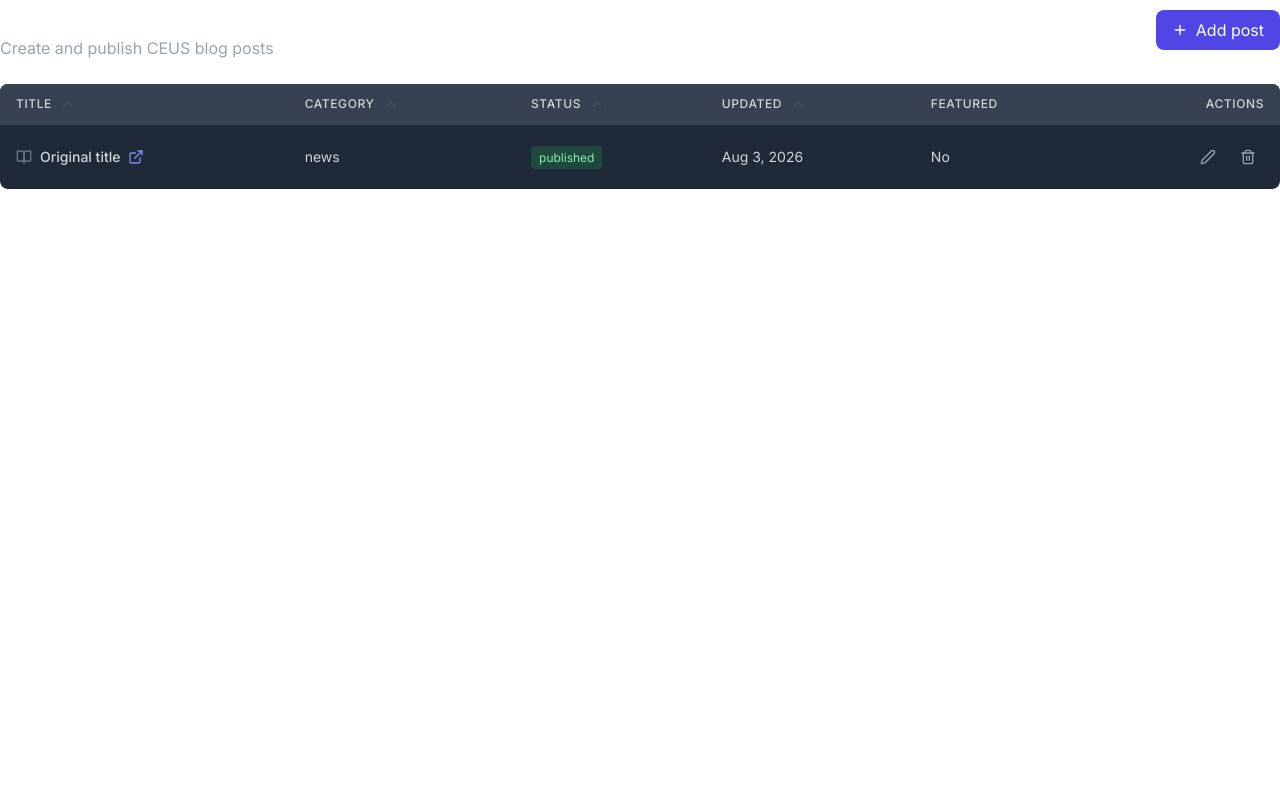
Test case: AdminBlogPage › updates an auto-derived slug while editing a post
Expected: the text "Original title" is shown, 40,147 -> 120,167
Click the button titled "Edit" at (1208, 157), box 1192,141 -> 1224,173
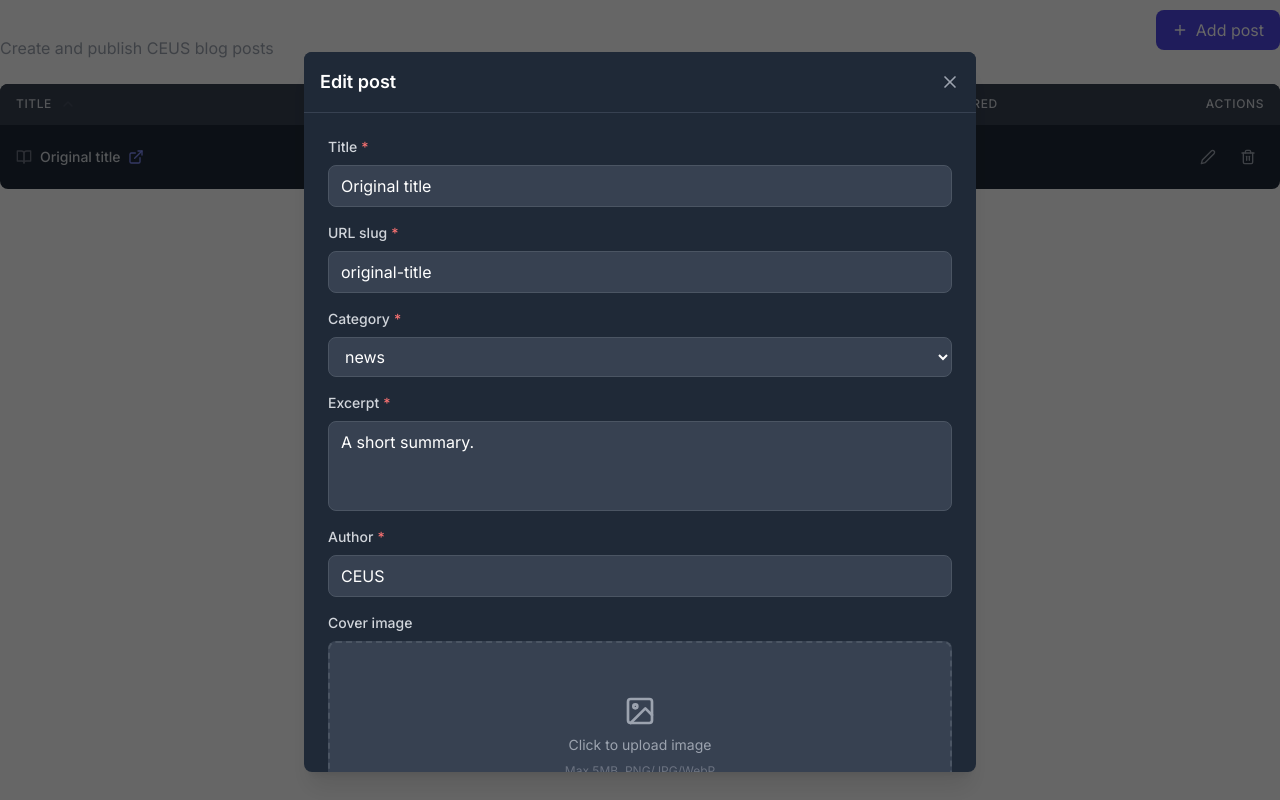
Replace the text in the field labelled "Title*" with "Updated title" at (640, 186), box 328,165 -> 952,207
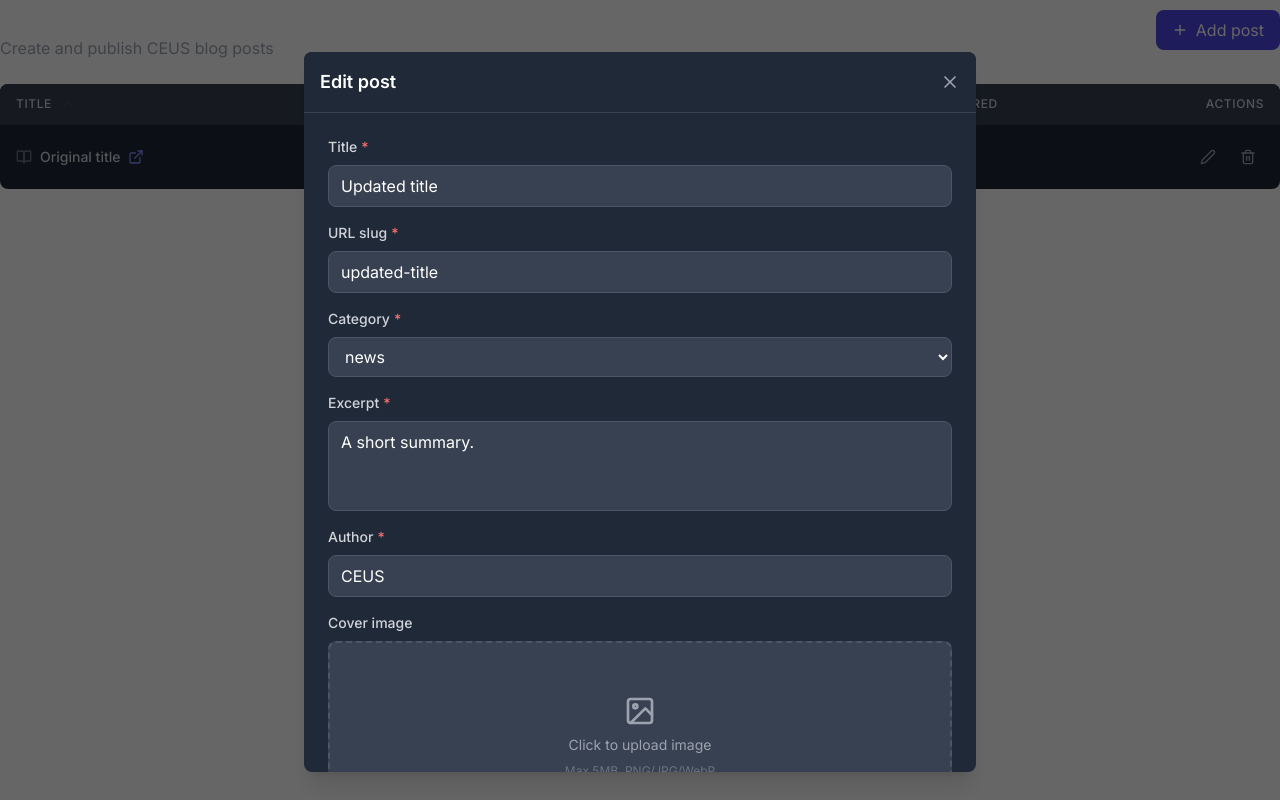
Result: the field labelled "URL slug*" holds "updated-title" at 328,251 -> 952,293
